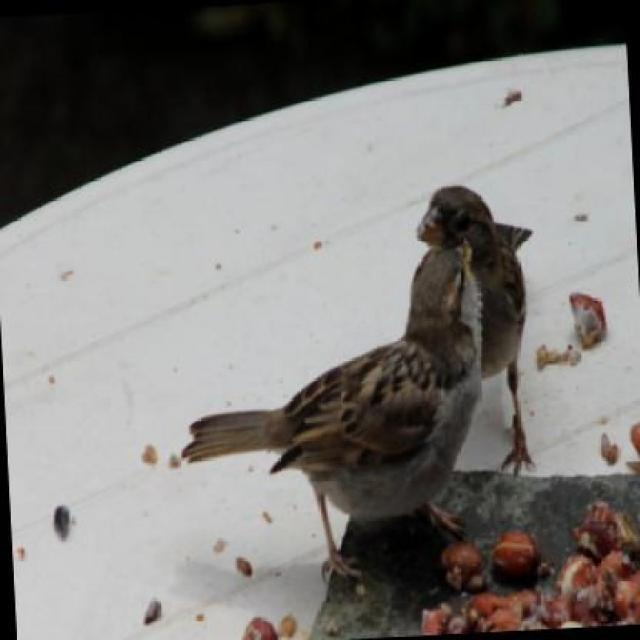Bird: (187, 235, 490, 603), (411, 185, 551, 467)
